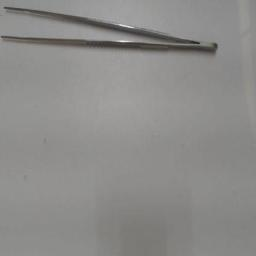DeBakey Dissector: (0, 2, 230, 66)
